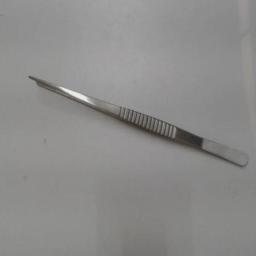DeBakey Dissector: (20, 67, 252, 177)
